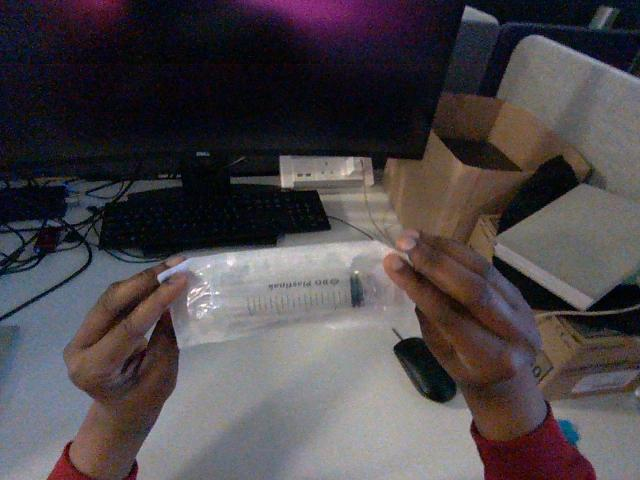syringe: (158, 241, 411, 347)
